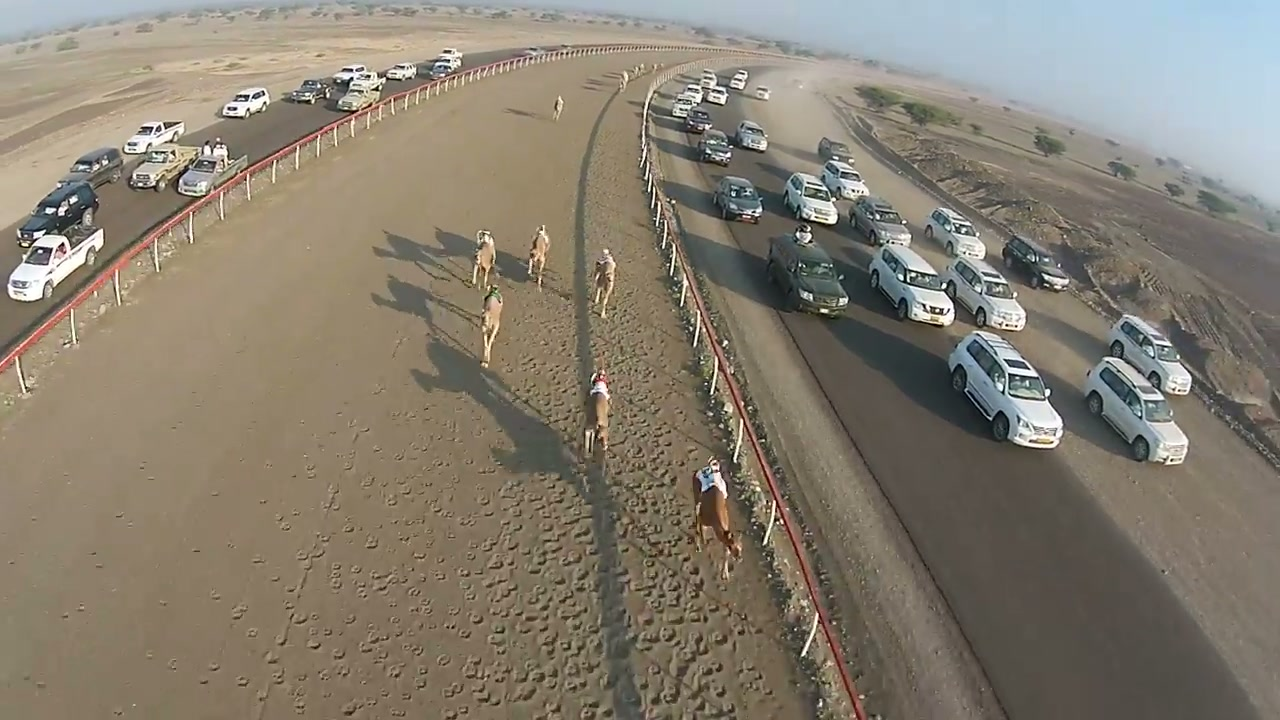animal_foot_print: (351, 282, 782, 719)
